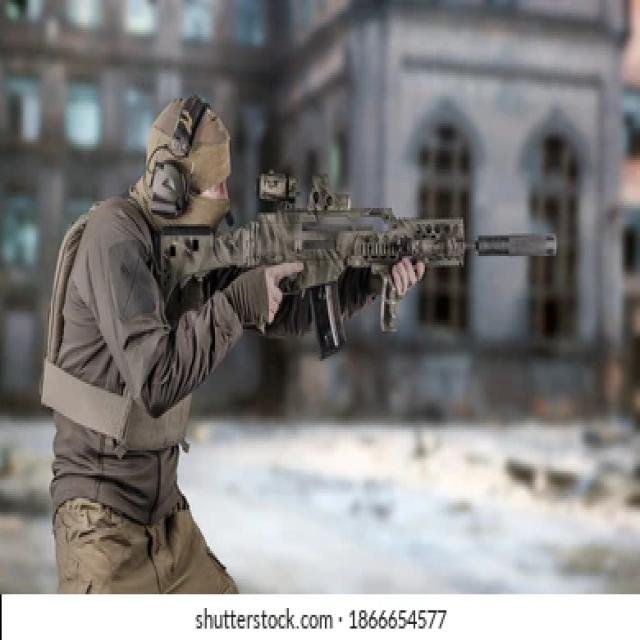soldier: (38, 100, 559, 597)
